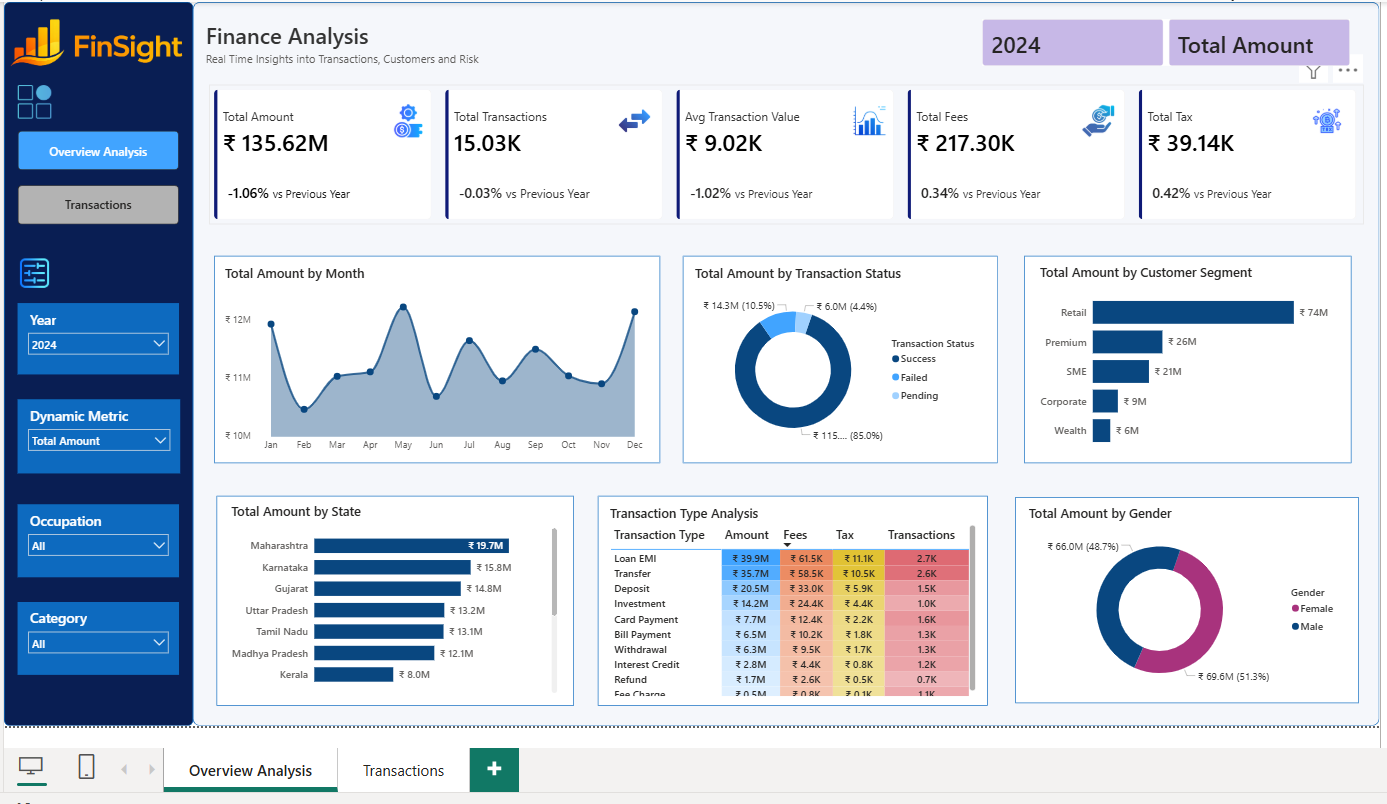

This screenshot's page, from the dashboard's own definition file:
{"tool":"powerbi","page":{"name":"Overview Analysis","canvas":[2000,1052],"ordinal":0},"visuals":[{"type":"shape","box":[0,0,275.1,1052.1],"z":0},{"type":"shape","box":[275.1,0,1724.7,1052.1],"z":1000},{"type":"image","box":[0,0,275.4,119.5],"z":2000},{"type":"cardVisual","fields":{"Data":["finance_transactions.Dashboard Title"]},"box":[276.2,0,532.3,119.9],"z":3000},{"type":"cardVisual","fields":{"Data":["finance_transactions.Total Amount","finance_transactions.Total Transactions","finance_transactions.Avg Transaction Value","finance_transactions.Total Fees","finance_transactions.Total Tax"]},"box":[298.1,119.7,1678.8,203.8],"z":4000},{"type":"slicer","fields":{"Values":["Calendar Table.Year"]},"box":[20,437.9,234.4,103.6],"z":5000},{"type":"image","box":[563,147.8,48.4,51],"z":6000},{"type":"image","box":[891.6,147.8,48.4,51],"z":7000},{"type":"image","box":[1233,147.8,48.4,51],"z":8000},{"type":"image","box":[1566.8,147.8,48.4,51],"z":9000},{"type":"image","box":[1897.9,147.8,48.4,51],"z":10000},{"type":"slicer","fields":{"Values":["Dynamic Metric.Dynamic Metric"]},"box":[20,577.8,236.2,107.2],"z":11000},{"type":"shape","box":[305.2,368.8,648.6,301.6],"z":12000},{"type":"areaChart","fields":{"Y":["finance_transactions.Total Amount"],"Category":["Calendar Table.Month"]},"box":[316.1,381.5,625,281.6],"z":13000},{"type":"cardVisual","fields":{"Data":["finance_transactions.Selected Year","Dynamic Metric.Selected Dynamic Measure"]},"box":[1417.2,20,545.1,78.1],"z":14000},{"type":"shape","box":[986.6,368.8,457.9,301.6],"z":15000},{"type":"donutChart","fields":{"Y":["finance_transactions.Total Amount"],"Category":["finance_transactions.transaction_status"]},"box":[999.3,381.5,430.6,281.6],"z":16000},{"type":"shape","box":[1482.6,368.8,476,301.6],"z":17000},{"type":"clusteredBarChart","fields":{"Y":["finance_transactions.Total Amount"],"Category":["customers.customer_segment"]},"box":[1500.7,379.7,439.7,283.4],"z":18000},{"type":"shape","box":[308.9,717.7,519.6,305.2],"z":19000},{"type":"clusteredBarChart","fields":{"Y":["finance_transactions.Total Amount"],"Category":["customers.state"]},"box":[326.1,726.1,484,282.8],"z":20000},{"type":"shape","box":[863,717.7,566.9,305.2],"z":21000},{"type":"tableEx","title":"Transaction Type Analysis","fields":{"Values":["finance_transactions.transaction_type","finance_transactions.Total Amount","finance_transactions.Total Fees","finance_transactions.Total Tax","finance_transactions.Total Transactions"]},"box":[875.7,730.4,541.4,283.4],"z":22000},{"type":"shape","box":[1469.8,719.5,499.6,299.8],"z":23000},{"type":"donutChart","fields":{"Y":["finance_transactions.Total Amount"],"Category":["customers.gender"]},"box":[1484.4,730.4,463.3,281.6],"z":24000},{"type":"slicer","fields":{"Values":["customers.occupation"]},"box":[20,730.4,234.4,105.4],"z":25000},{"type":"slicer","fields":{"Values":["finance_transactions.merchant_category"]},"box":[20,872.1,234.4,105.4],"z":26000},{"type":"pageNavigator","box":[20,187.1,234.4,136.3],"z":27000},{"type":"image","box":[20,119.9,49.1,50.9],"z":28000},{"type":"image","box":[20,368.8,49.1,50.9],"z":29000}]}

Visuals, with their boxes on the page's 2000x1052 design canvas (x1, y1, x2, y2). These are canvas units, not pixel positions in the 1387x804 screenshot, which may show the page scaled, cropped or inside an application window:
shape: l=0, t=0, r=275, b=1052
shape: l=275, t=0, r=2000, b=1052
image: l=0, t=0, r=275, b=120
cardVisual - finance_transactions.Dashboard Title: l=276, t=0, r=808, b=120
cardVisual - finance_transactions.Total Amount x finance_transactions.Total Transactions: l=298, t=120, r=1977, b=324
slicer - Calendar Table.Year: l=20, t=438, r=254, b=542
image: l=563, t=148, r=611, b=199
image: l=892, t=148, r=940, b=199
image: l=1233, t=148, r=1281, b=199
image: l=1567, t=148, r=1615, b=199
image: l=1898, t=148, r=1946, b=199
slicer - Dynamic Metric.Dynamic Metric: l=20, t=578, r=256, b=685
shape: l=305, t=369, r=954, b=670
areaChart - finance_transactions.Total Amount x Calendar Table.Month: l=316, t=382, r=941, b=663
cardVisual - finance_transactions.Selected Year x Dynamic Metric.Selected Dynamic Measure: l=1417, t=20, r=1962, b=98
shape: l=987, t=369, r=1444, b=670
donutChart - finance_transactions.Total Amount x finance_transactions.transaction_status: l=999, t=382, r=1430, b=663
shape: l=1483, t=369, r=1959, b=670
clusteredBarChart - finance_transactions.Total Amount x customers.customer_segment: l=1501, t=380, r=1940, b=663
shape: l=309, t=718, r=828, b=1023
clusteredBarChart - finance_transactions.Total Amount x customers.state: l=326, t=726, r=810, b=1009
shape: l=863, t=718, r=1430, b=1023
"Transaction Type Analysis" tableEx: l=876, t=730, r=1417, b=1014
shape: l=1470, t=720, r=1969, b=1019
donutChart - finance_transactions.Total Amount x customers.gender: l=1484, t=730, r=1948, b=1012
slicer - customers.occupation: l=20, t=730, r=254, b=836
slicer - finance_transactions.merchant_category: l=20, t=872, r=254, b=978
pageNavigator: l=20, t=187, r=254, b=323
image: l=20, t=120, r=69, b=171
image: l=20, t=369, r=69, b=420
